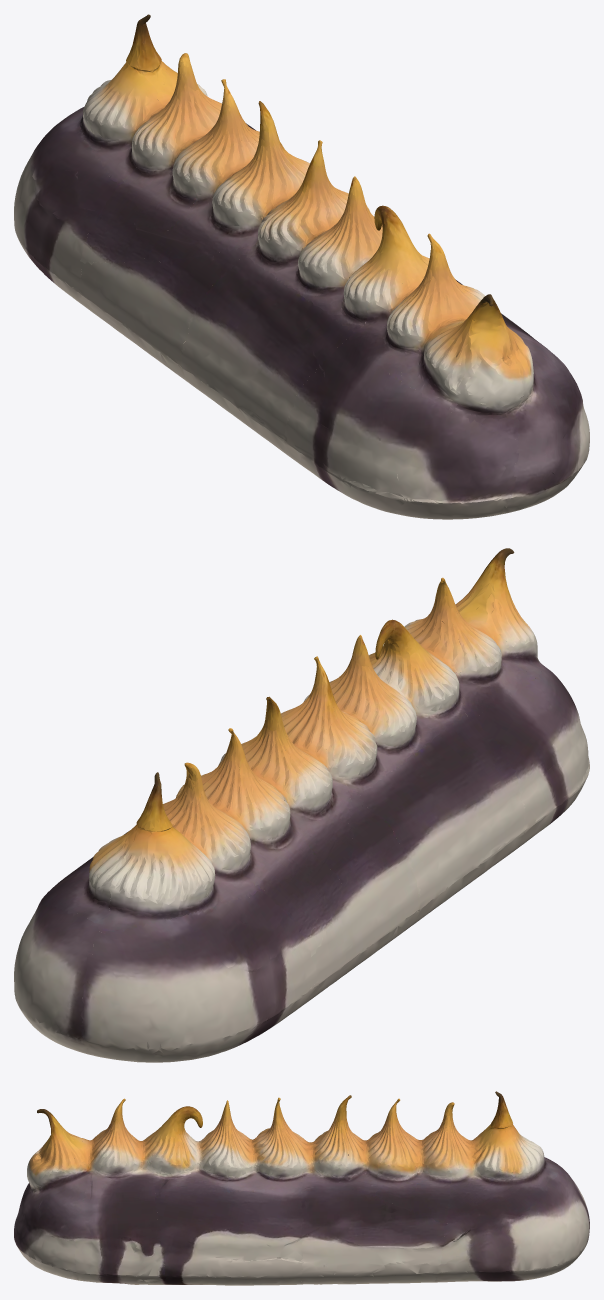
The model's file is 06_6_yellowdot_eclair4_sculpture.glb.
3 views of the same model, one above another, from view 1: azimuth 30°, elevation 25°; view 2: azimuth 150°, elevation 25°; view 3: azimuth 270°, elevation 25° (orthographic). The views are drawn at different scales.
Visible parts, largest first — view 1: exlair4.001; view 2: exlair4.001; view 3: exlair4.001.
Boxes of the visible parts, bbox=[...] form: exlair4.001: bbox=[14, 14, 589, 519]; exlair4.001: bbox=[14, 548, 589, 1062]; exlair4.001: bbox=[14, 1091, 589, 1285].
Bounding box in the file's own units: 0.0406 × 0.0382 × 0.125.
Materials: 1 (1 with a texture image).
